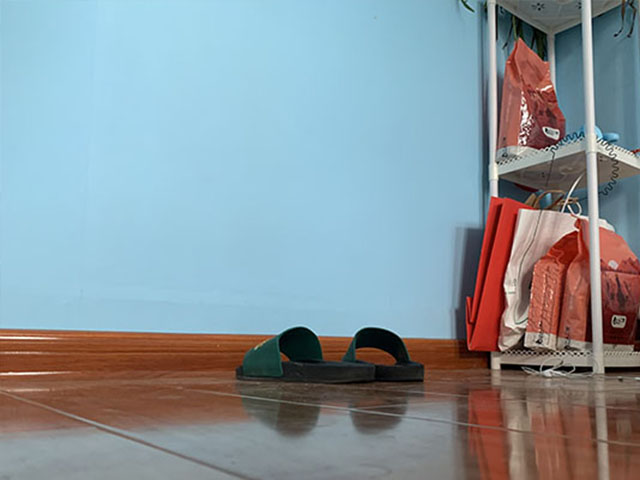slippers: (235, 323, 380, 387), (345, 323, 426, 384)
